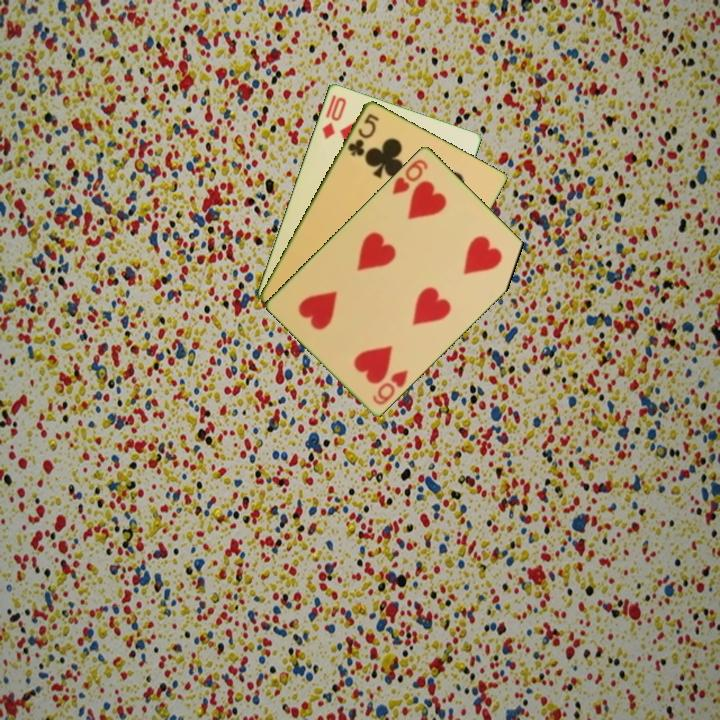10d: (318, 93, 349, 142)
5c: (344, 109, 382, 159)
6h: (388, 155, 431, 198), (369, 366, 411, 408)
